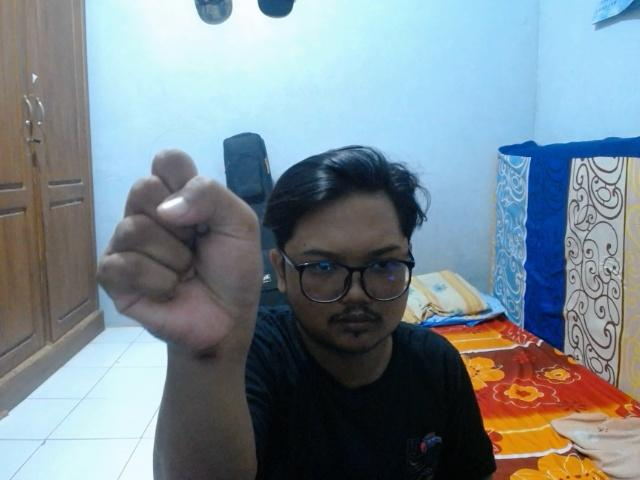Grab: (91, 141, 269, 368)
